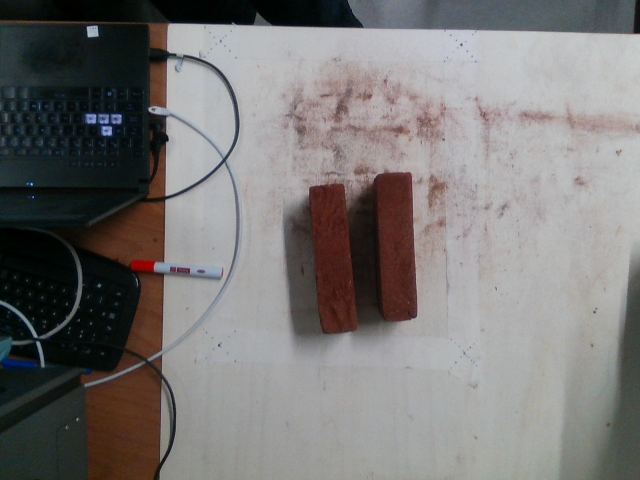brick-side: (310, 185, 355, 336), (377, 174, 416, 317)
